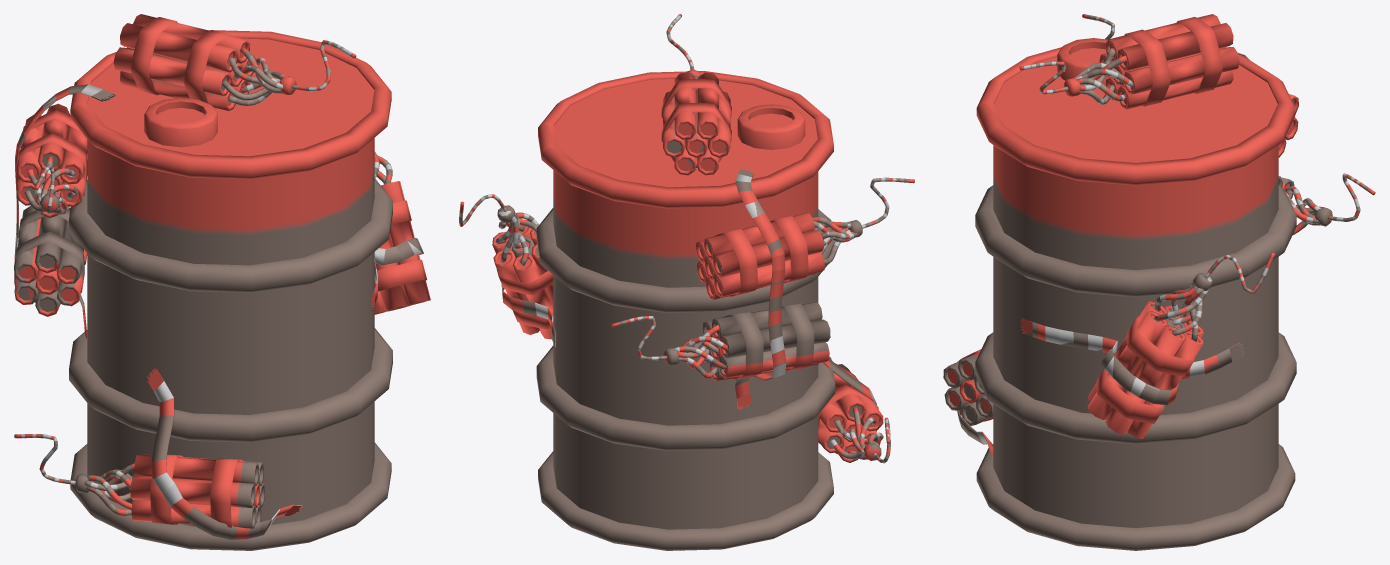
Rendered from EvenMoreExplosiveBarrel.fbx.
The picture shows the model from 3 angles, left to right: view 1: azimuth 30°, elevation 25°; view 2: azimuth 150°, elevation 25°; view 3: azimuth 270°, elevation 25°; orthographic projection. The views are drawn at different scales.
Parts seen in each view (by area): view 1: OilBarrel; view 2: OilBarrel; view 3: OilBarrel.
Boxes of the visible parts, x1,y1,x2,y2 form: OilBarrel: [14, 14, 430, 550]; OilBarrel: [459, 14, 914, 550]; OilBarrel: [943, 14, 1375, 550].
Size of the model in its own units: 234 by 248 by 215.
